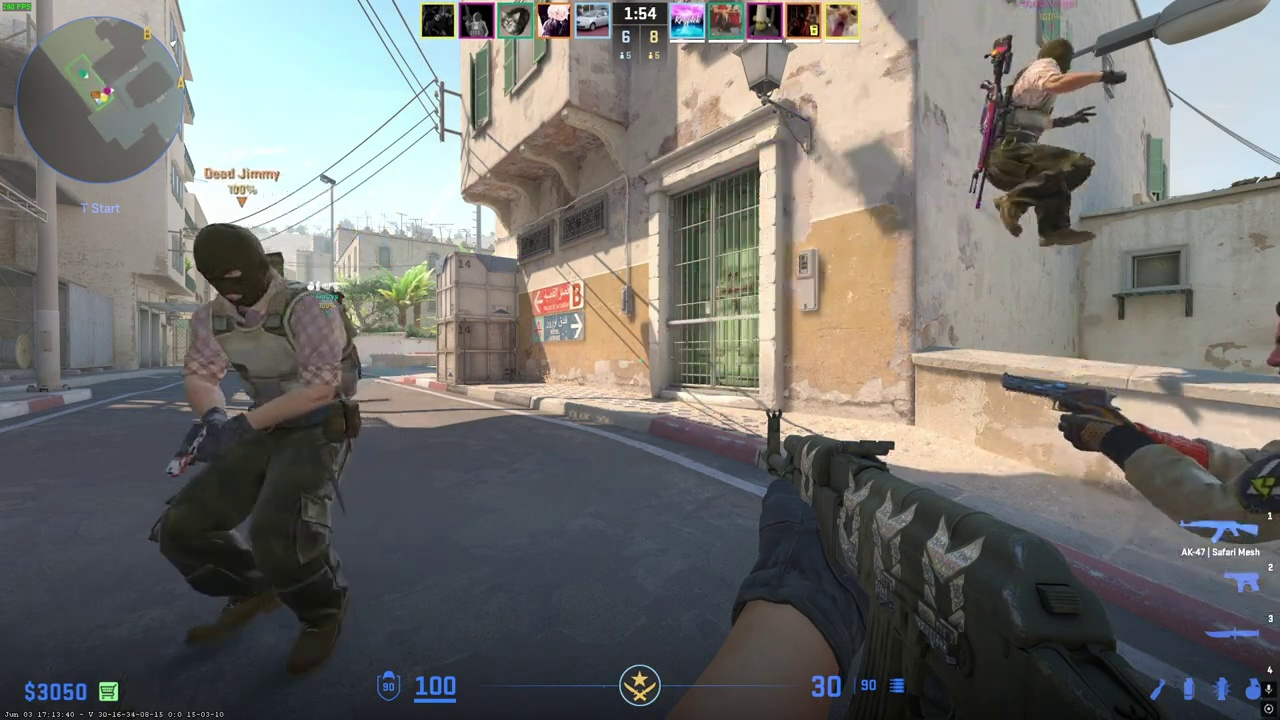Terrorist: (152, 223, 360, 688), (980, 38, 1095, 249)
